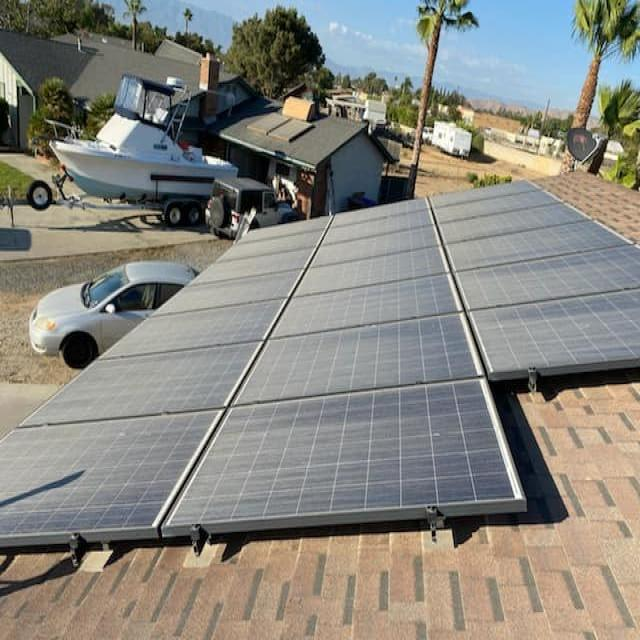dust-solar-panel: (0, 177, 640, 538)
